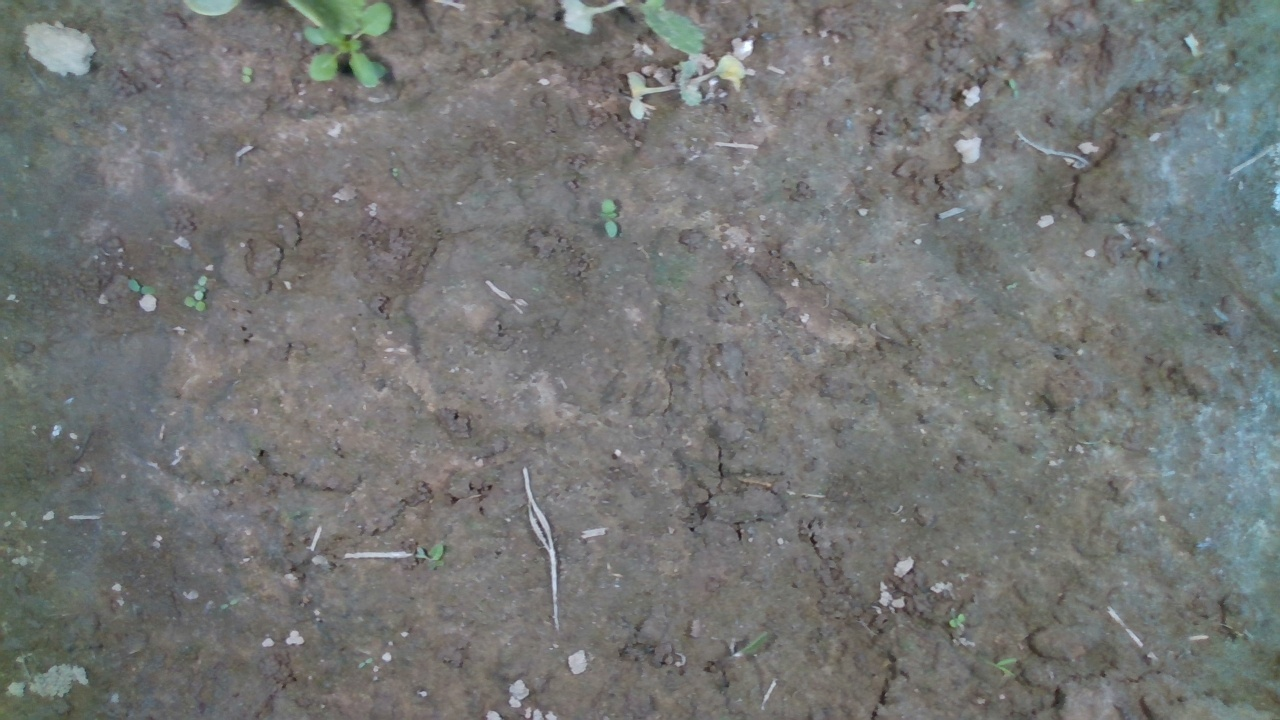weed: (594, 195, 622, 237), (125, 274, 160, 300), (945, 609, 974, 630), (235, 64, 255, 85), (358, 654, 378, 672)
